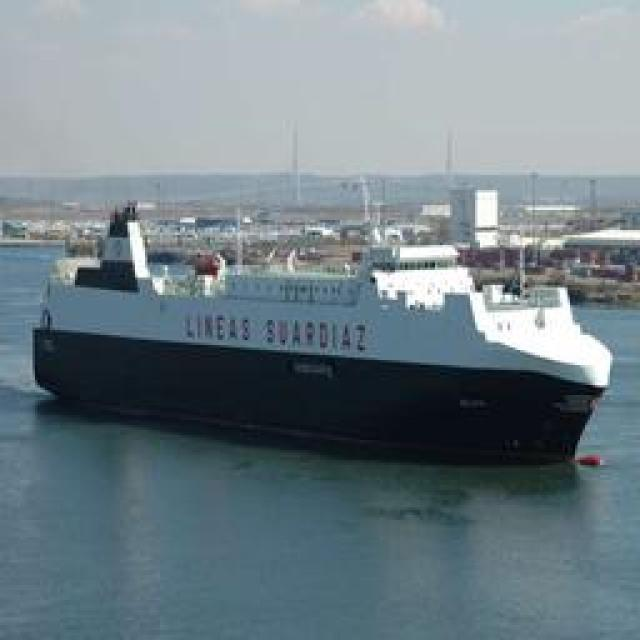CIV_Ship: (35, 187, 605, 455)
